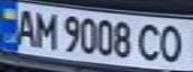0: (96, 17, 115, 56), (78, 15, 96, 55)
8: (112, 18, 136, 60)
9: (57, 12, 81, 53)
A: (9, 6, 39, 47)
C: (136, 20, 166, 63)
M: (30, 9, 60, 51)
O: (157, 21, 190, 64)
